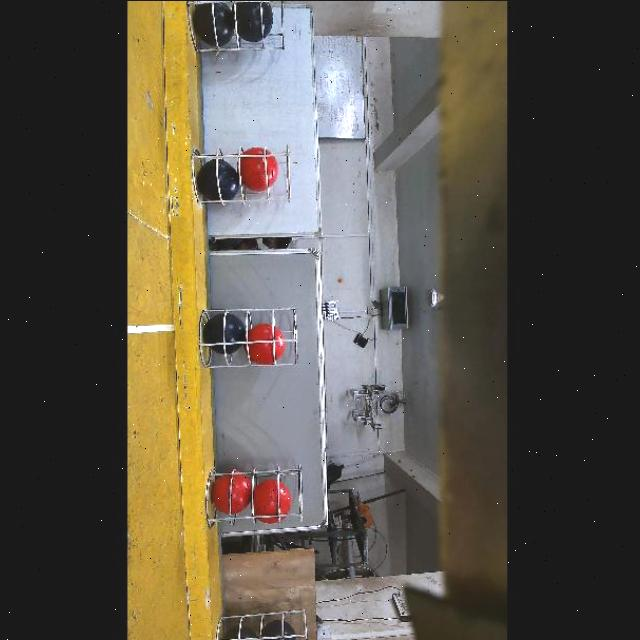P: (192, 2, 234, 46), (197, 158, 239, 200), (203, 313, 245, 354), (236, 1, 273, 41), (262, 620, 296, 640), (224, 626, 258, 640)
R: (240, 147, 278, 191), (210, 473, 250, 513), (254, 481, 291, 524), (248, 323, 284, 364)
S: (205, 468, 311, 534), (200, 298, 298, 364), (198, 146, 294, 210), (196, 0, 288, 48), (217, 606, 306, 640)
